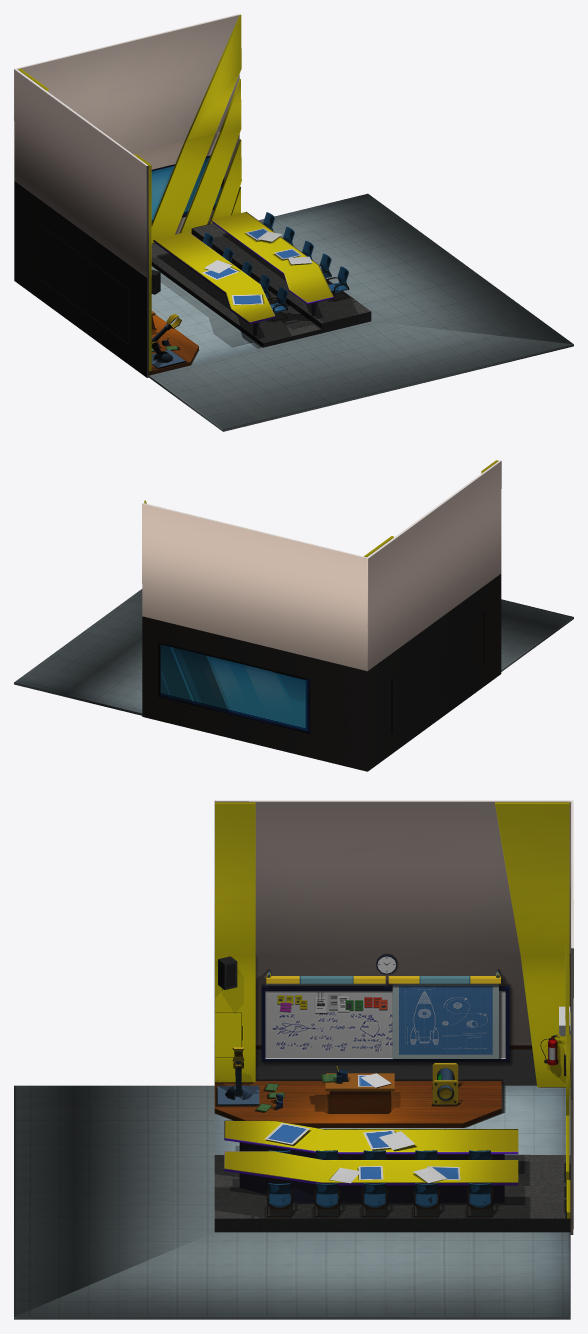
The model's file is Tx_Interior_Education_Engineering_20170726.fbx.
3 views of the same model, one above another, from view 1: azimuth 30°, elevation 25°; view 2: azimuth 150°, elevation 25°; view 3: azimuth 270°, elevation 25° (orthographic). The views are drawn at different scales.
Parts seen in each view (by area): view 1: Tx_Interior_Education_Computing_20170703:polySurface13, Tx_Interior_Education_Computing_20170703:group1_bake, Tx_Interior_Education_Computing_20170703:group2_bake; view 2: Tx_Interior_Education_Computing_20170703:polySurface13, Tx_Interior_Education_Computing_20170703:group1_bake; view 3: Tx_Interior_Education_Computing_20170703:polySurface13, Tx_Interior_Education_Computing_20170703:group1_bake, Tx_Interior_Education_Computing_20170703:group2_bake.
Part boxes in pixels (bbox=[...]): Tx_Interior_Education_Computing_20170703:polySurface13: bbox=[14, 14, 573, 431]; Tx_Interior_Education_Computing_20170703:group1_bake: bbox=[14, 129, 371, 377]; Tx_Interior_Education_Computing_20170703:group2_bake: bbox=[151, 212, 349, 368]; Tx_Interior_Education_Computing_20170703:polySurface13: bbox=[14, 460, 573, 715]; Tx_Interior_Education_Computing_20170703:group1_bake: bbox=[142, 574, 501, 771]; Tx_Interior_Education_Computing_20170703:polySurface13: bbox=[14, 800, 573, 1319]; Tx_Interior_Education_Computing_20170703:group1_bake: bbox=[214, 953, 573, 1234]; Tx_Interior_Education_Computing_20170703:group2_bake: bbox=[217, 954, 570, 1217].
Bounding box in the file's own units: 82.57 × 47.59 × 83.76.
